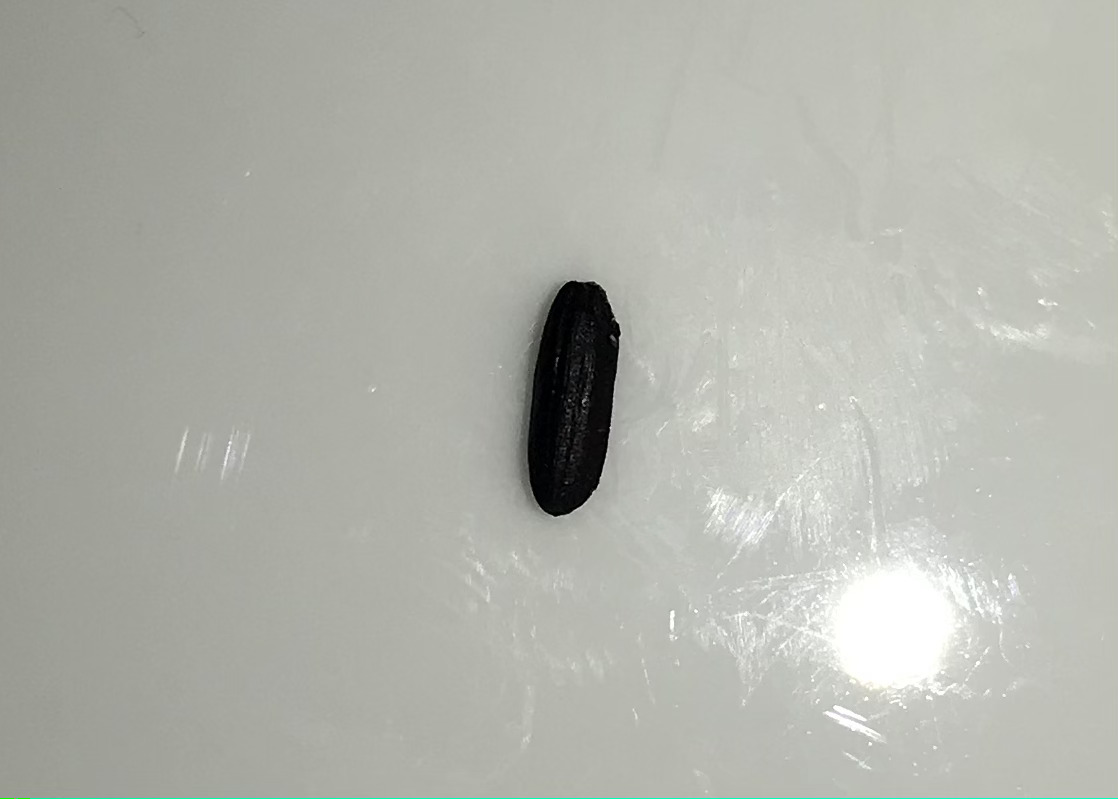Gao lut: (527, 269, 622, 519)
